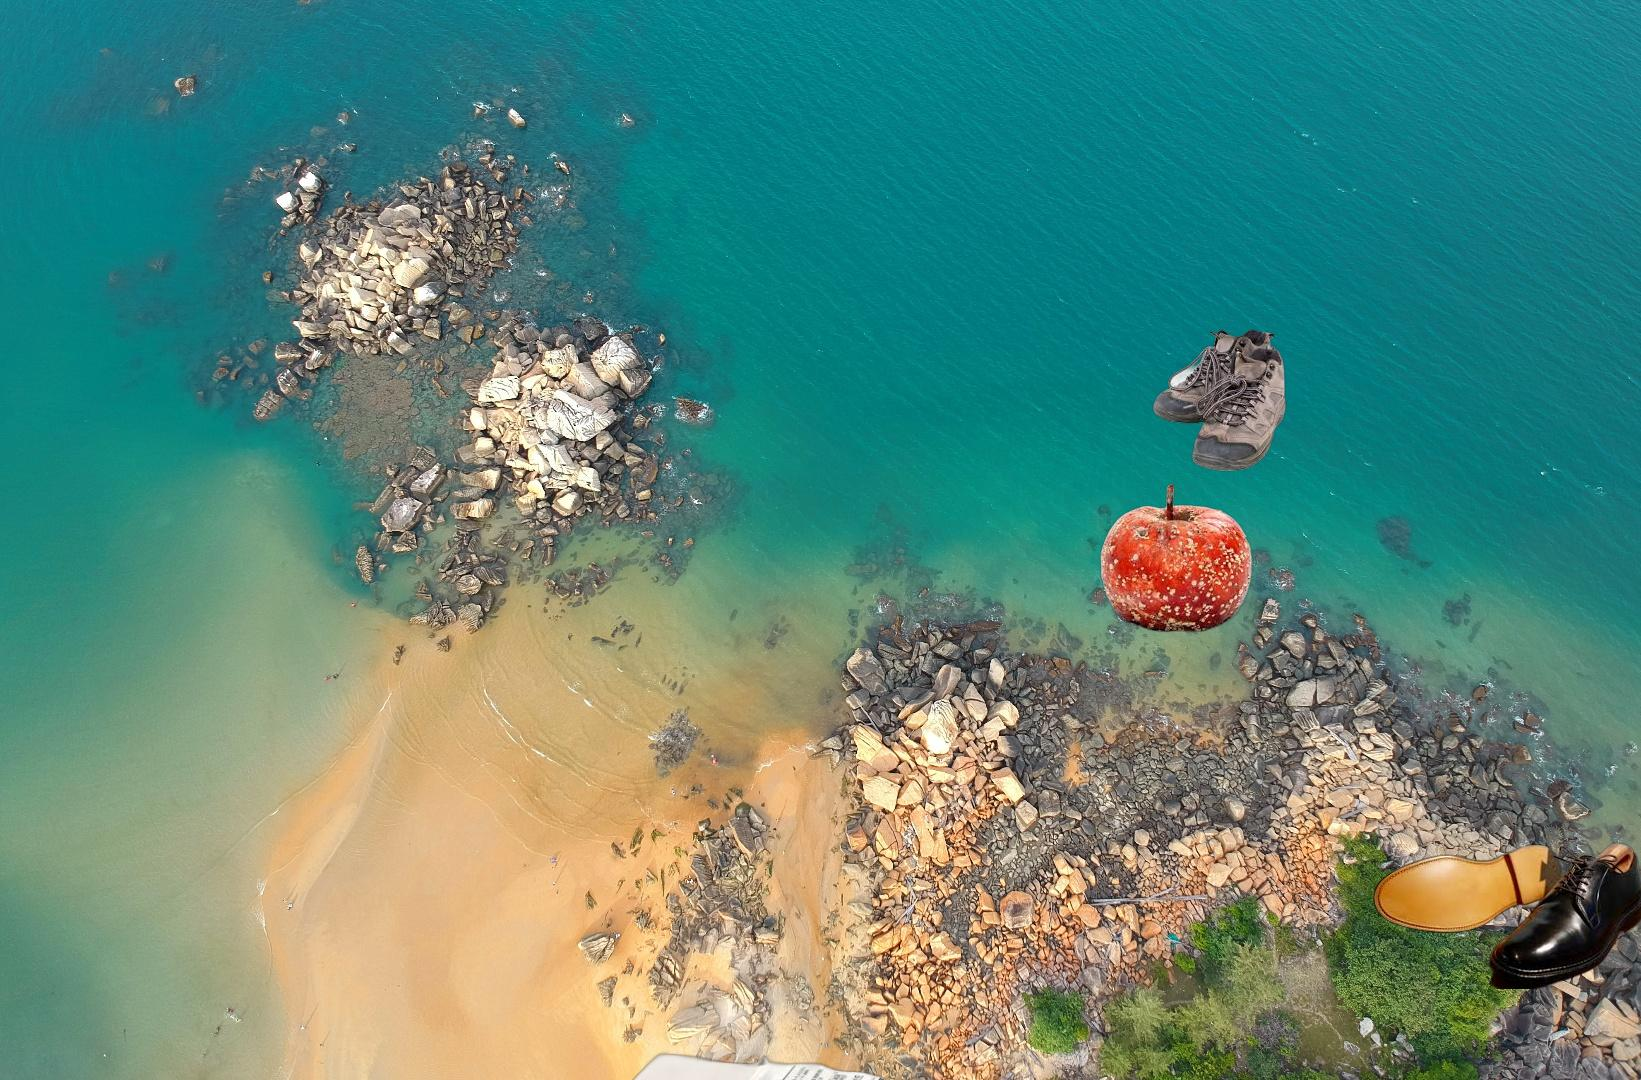battery: (591, 1008, 889, 1080)
biological: (1097, 481, 1255, 634)
shoes: (1370, 840, 1641, 989), (1151, 323, 1289, 474)
